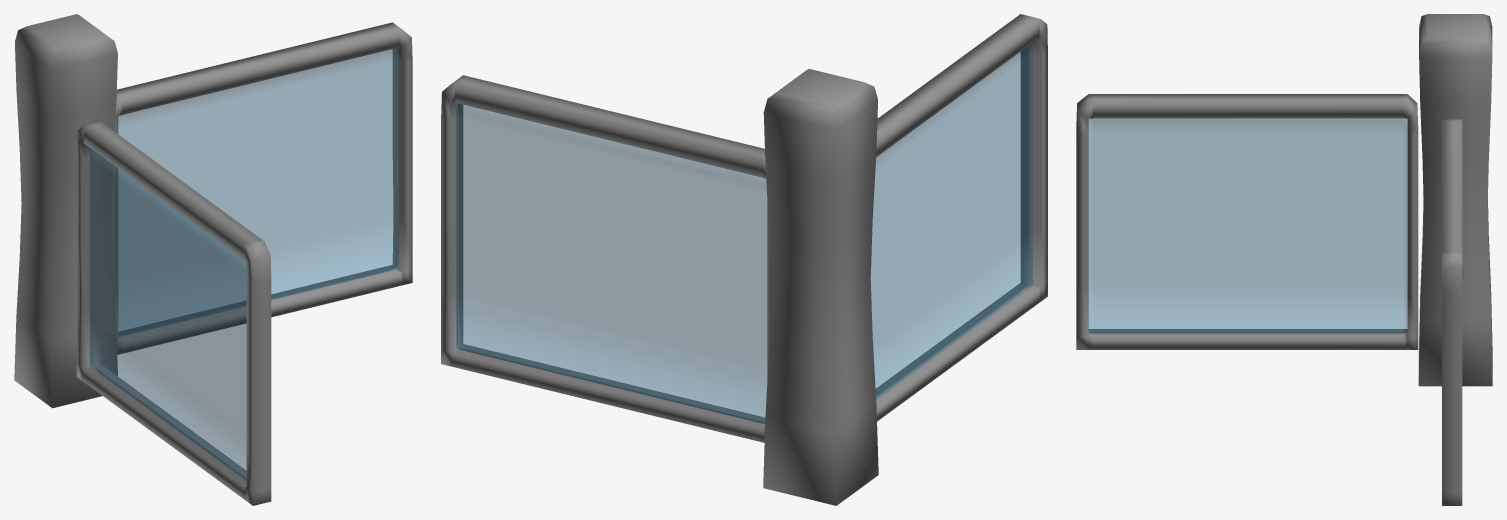
Rendered from GlassHalfWall_Corner_Border.glb.
The picture shows the model from 3 angles, left to right: view 1: azimuth 30°, elevation 25°; view 2: azimuth 150°, elevation 25°; view 3: azimuth 270°, elevation 25°; orthographic projection. The views are drawn at different scales.
Visible parts, largest first — view 1: 6-StraightGlassBorder.005, 6-StraightGlassBorder.006, 3-PostNARROWER.002; view 2: 6-StraightGlassBorder.005, 6-StraightGlassBorder.006, 3-PostNARROWER.002; view 3: 6-StraightGlassBorder.006, 3-PostNARROWER.002, 6-StraightGlassBorder.005.
Part boxes in pixels (left/top/right/bottom): 6-StraightGlassBorder.005: left=111, top=22, right=412, bottom=354; 6-StraightGlassBorder.006: left=76, top=121, right=271, bottom=505; 3-PostNARROWER.002: left=14, top=14, right=117, bottom=408; 6-StraightGlassBorder.005: left=441, top=75, right=770, bottom=442; 6-StraightGlassBorder.006: left=870, top=14, right=1047, bottom=421; 3-PostNARROWER.002: left=763, top=69, right=878, bottom=505; 6-StraightGlassBorder.006: left=1076, top=94, right=1418, bottom=349; 3-PostNARROWER.002: left=1418, top=14, right=1492, bottom=386; 6-StraightGlassBorder.005: left=1442, top=119, right=1462, bottom=505.
Bounding box in the file's own units: 1.09 × 0.9929 × 1.09.
Materials: 3 (3 with a texture image).
